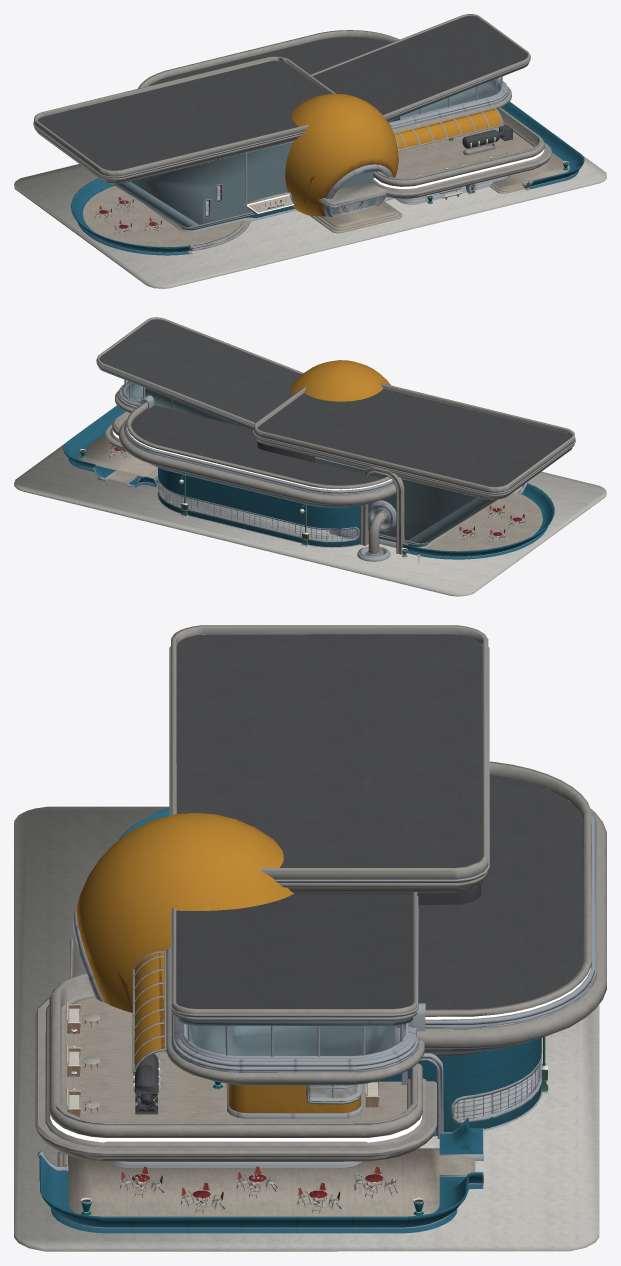
Rendered from cargo_retro_science.glb.
3 renders of one model, top to bottom at view 1: azimuth 30°, elevation 25°; view 2: azimuth 150°, elevation 25°; view 3: azimuth 270°, elevation 25°, orthographic. The views are drawn at different scales.
Visible parts, largest first — view 1: KB3D_ATP_BldgSmScienceCenter_A_BuildingC, KB3D_ATP_BldgSmScienceCenter_A_Base, KB3D_ATP_BldgSmScienceCenter_A_BuildingA, KB3D_ATP_BldgSmScienceCenter_A_BuildingB, KB3D_ATP_BldgSmScienceCenter_A_BuildingC_transparent, KB3D_ATP_PropBomb_A_Main; view 2: KB3D_ATP_BldgSmScienceCenter_A_BuildingC, KB3D_ATP_BldgSmScienceCenter_A_Base, KB3D_ATP_BldgSmScienceCenter_A_BuildingA, KB3D_ATP_BldgSmScienceCenter_A_BuildingB, KB3D_ATP_BldgSmScienceCenter_A_BuildingC_transparent; view 3: KB3D_ATP_BldgSmScienceCenter_A_BuildingC, KB3D_ATP_BldgSmScienceCenter_A_Base, KB3D_ATP_BldgSmScienceCenter_A_BuildingB, KB3D_ATP_BldgSmScienceCenter_A_BuildingC_transparent, KB3D_ATP_PropBomb_A_Main.
Boxes of the visible parts, x1,y1,x2,y2 form: KB3D_ATP_BldgSmScienceCenter_A_BuildingC: [33, 14, 551, 233]; KB3D_ATP_BldgSmScienceCenter_A_Base: [14, 155, 606, 288]; KB3D_ATP_BldgSmScienceCenter_A_BuildingA: [71, 178, 250, 255]; KB3D_ATP_BldgSmScienceCenter_A_BuildingB: [489, 101, 584, 193]; KB3D_ATP_BldgSmScienceCenter_A_BuildingC_transparent: [206, 77, 501, 214]; KB3D_ATP_PropBomb_A_Main: [462, 125, 512, 155]; KB3D_ATP_BldgSmScienceCenter_A_BuildingC: [96, 317, 575, 561]; KB3D_ATP_BldgSmScienceCenter_A_Base: [14, 443, 606, 596]; KB3D_ATP_BldgSmScienceCenter_A_BuildingA: [402, 482, 554, 559]; KB3D_ATP_BldgSmScienceCenter_A_BuildingB: [63, 405, 158, 488]; KB3D_ATP_BldgSmScienceCenter_A_BuildingC_transparent: [124, 380, 357, 540]; KB3D_ATP_BldgSmScienceCenter_A_BuildingC: [35, 625, 606, 1167]; KB3D_ATP_BldgSmScienceCenter_A_Base: [14, 806, 599, 1251]; KB3D_ATP_BldgSmScienceCenter_A_BuildingB: [37, 1117, 483, 1233]; KB3D_ATP_BldgSmScienceCenter_A_BuildingC_transparent: [185, 1023, 538, 1119]; KB3D_ATP_PropBomb_A_Main: [133, 1054, 160, 1114].
Bounding box in the file's own units: 37.97 × 8.23 × 21.17.
38 materials, 38 textured.
